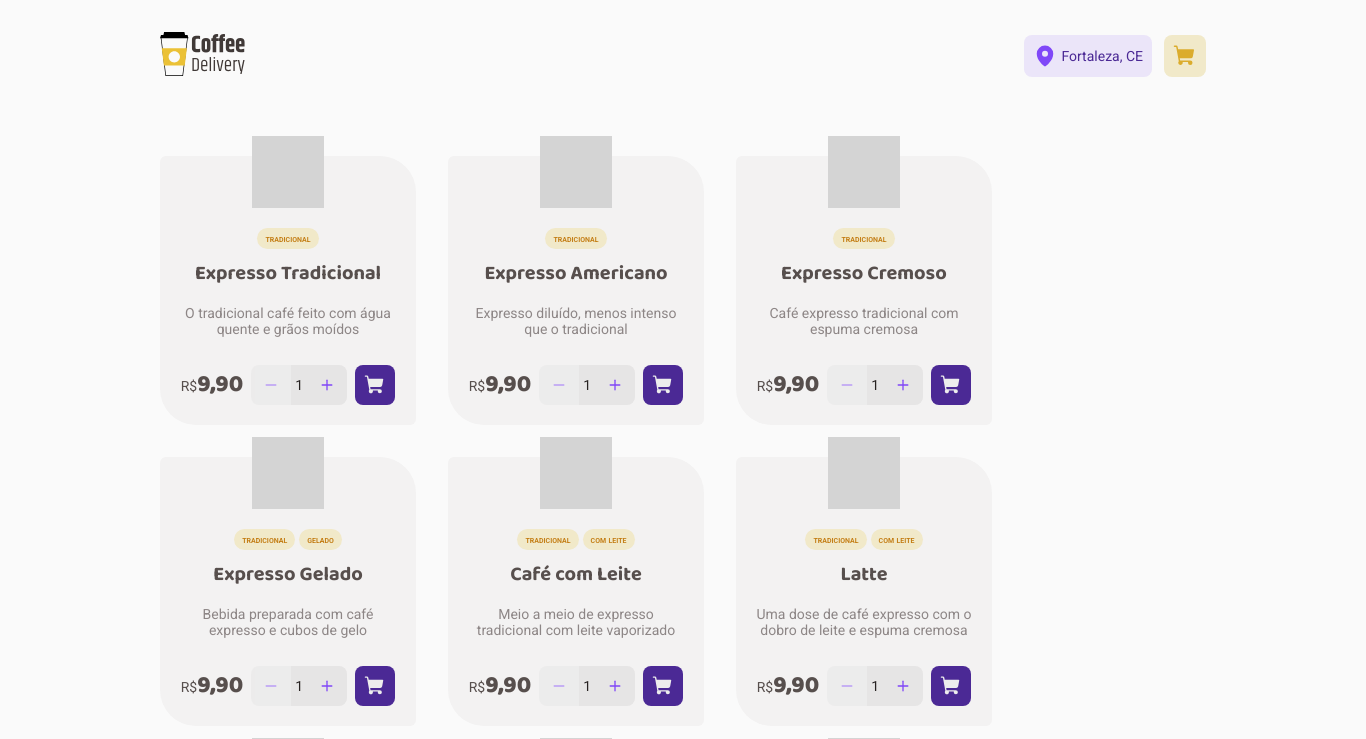
Scenario: App Component Integration › should be able to add item to cart when cart button is clicked
(page scrolled)
Expected: the 1st text with test id "amount" reads "1", [295,377,303,393]
Click the 1st button with test id "plus-btn".
click(327, 385)  # box [307,365,347,405]
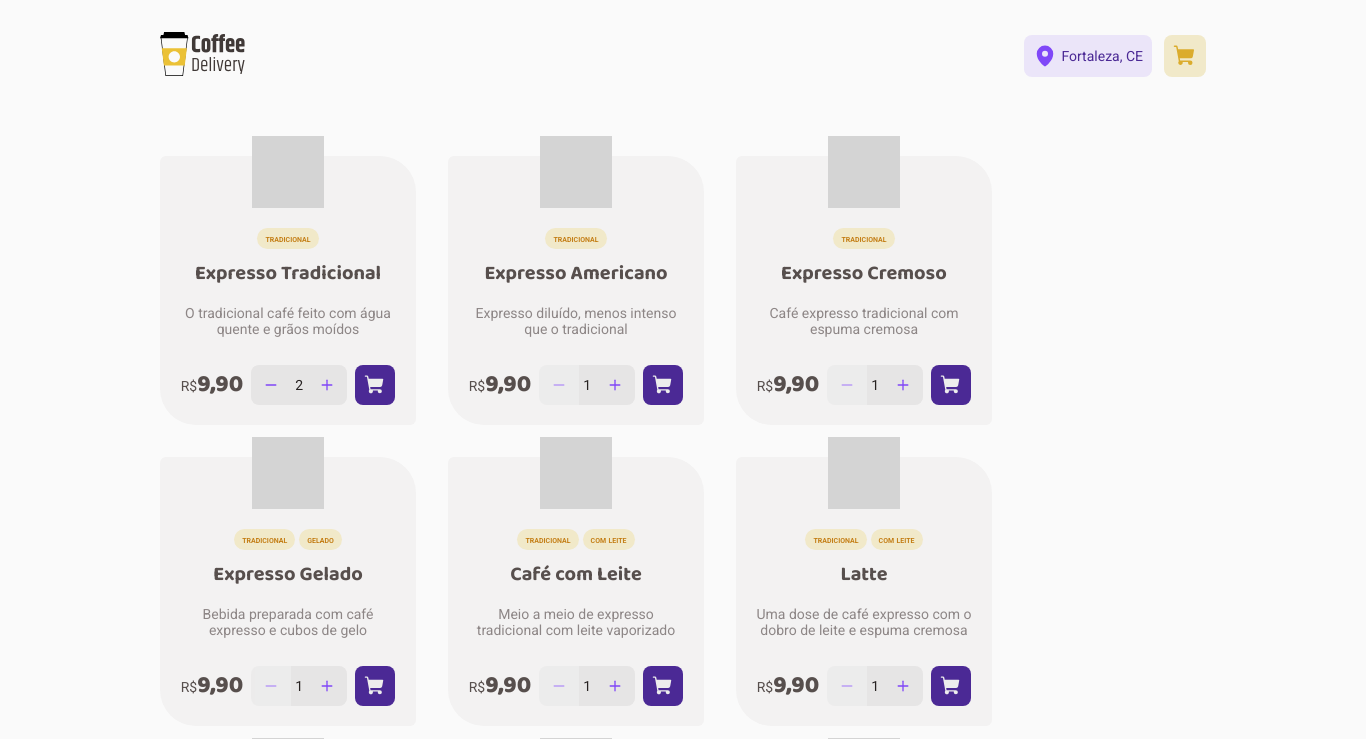
Now the text with test id "amount" reads "2", box [295,377,303,393]
Click the 1st button with test id "product-item-cart-btn".
click(375, 385)  # box [355,365,395,405]
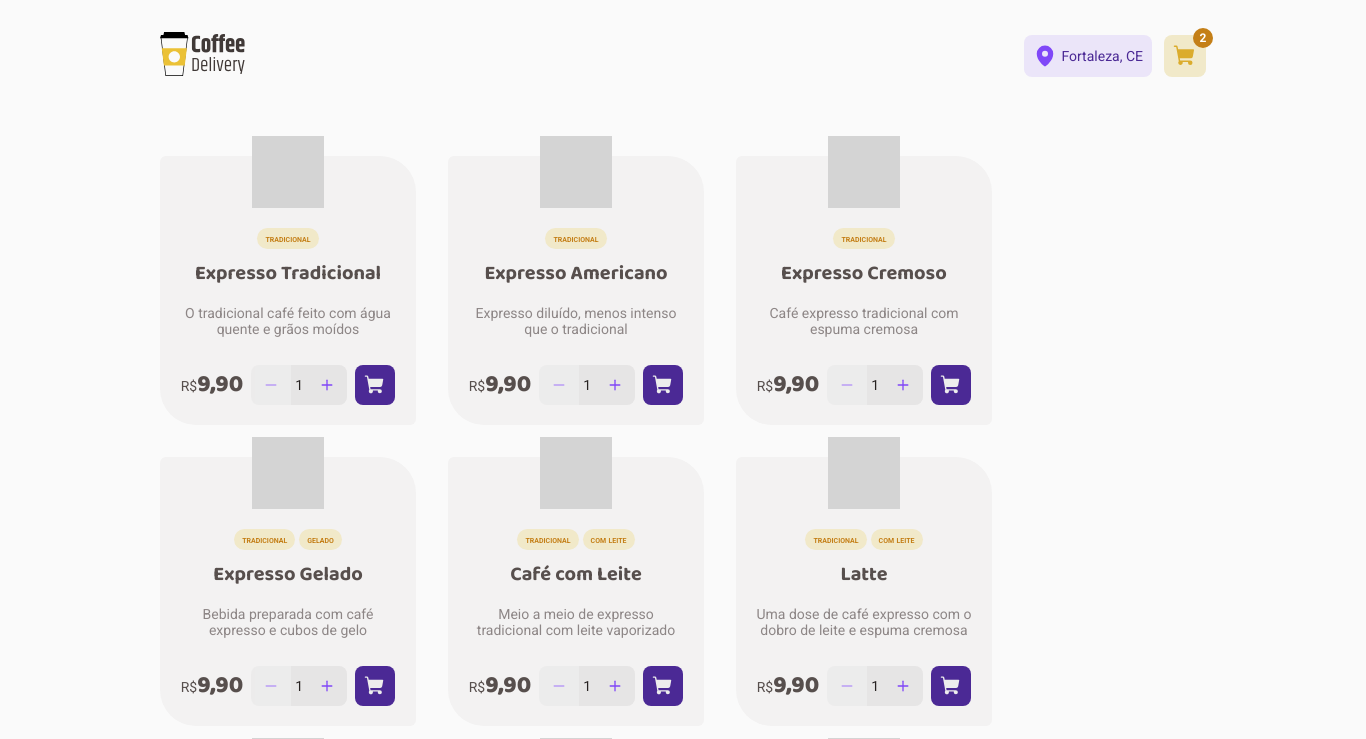
Now the 1st text with test id "amount" reads "1", box [295,377,303,393]
